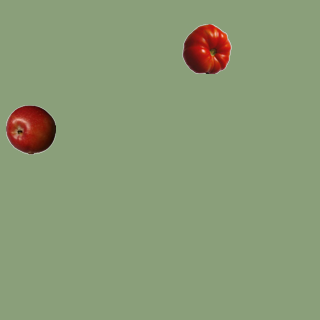Apple Braeburn: (5, 104, 55, 154)
Tomato 3: (181, 23, 231, 73)
